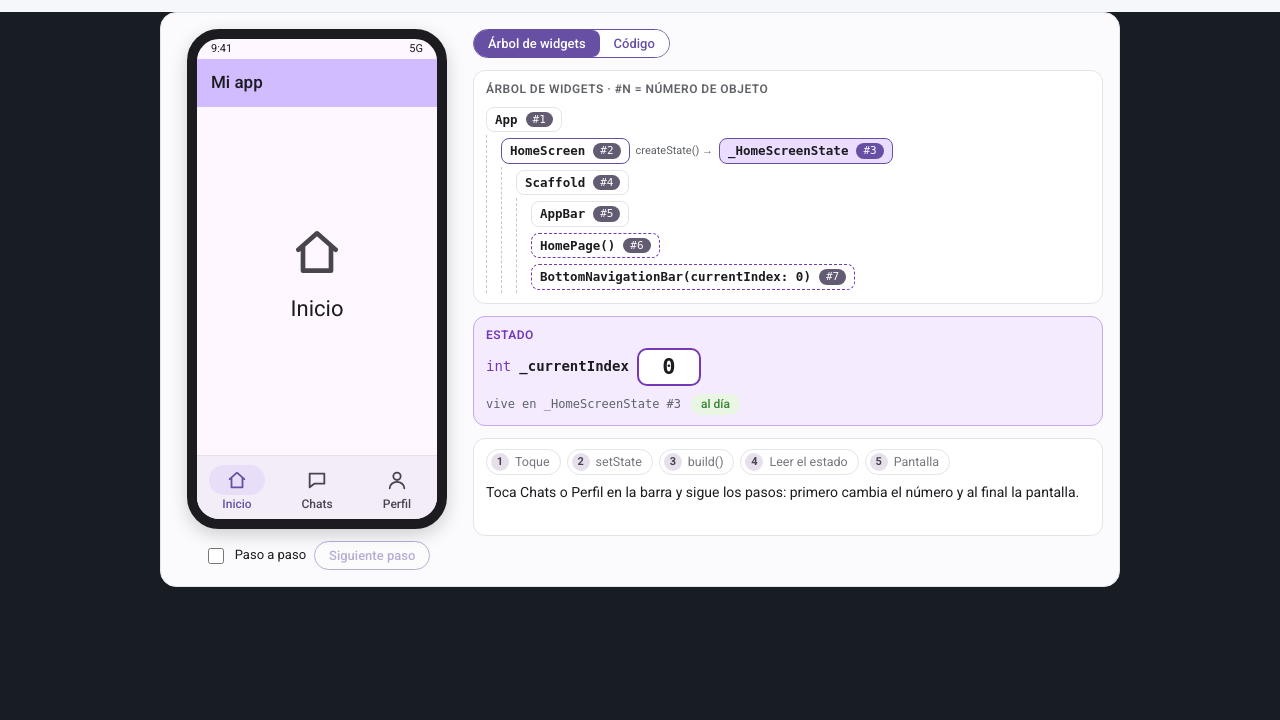
state-tree › tabs: the tapped index goes to the state first and the Page changes at the end
This screenshot has width=1280, height=720.
Click the button with aria-label "Pestaña Chats" at (317, 488), box [277, 456, 357, 519]
Wait 5500 ms
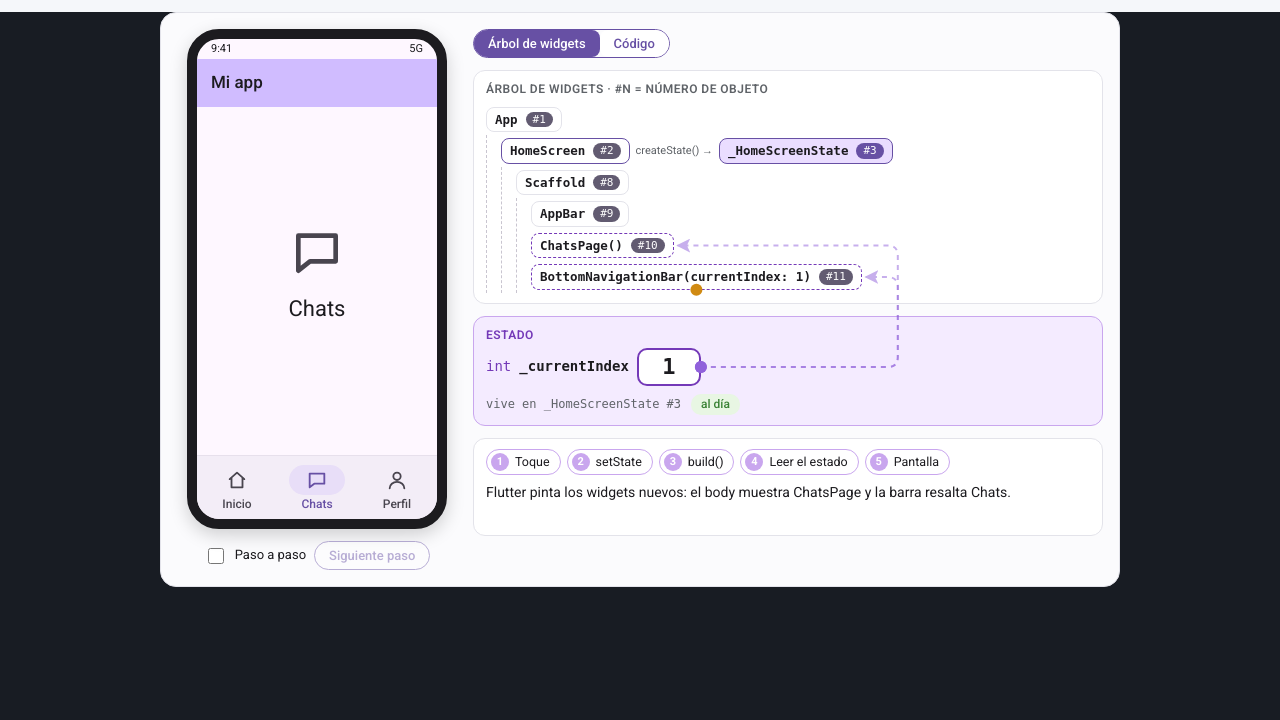
Expected: the text with test id "var-_currentIndex" reads "1", [662, 354, 676, 379]
Expected: the text "ChatsPage()" is shown, [540, 237, 623, 254]
